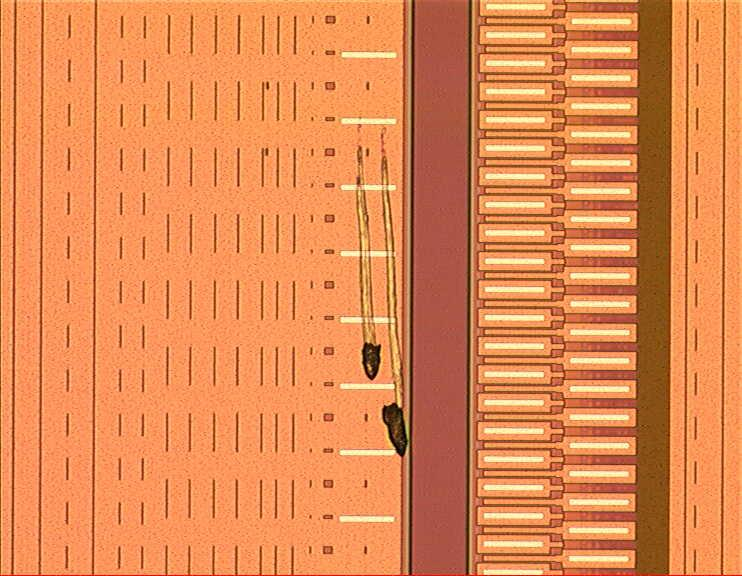SCRATCH: (343, 62, 416, 474)
